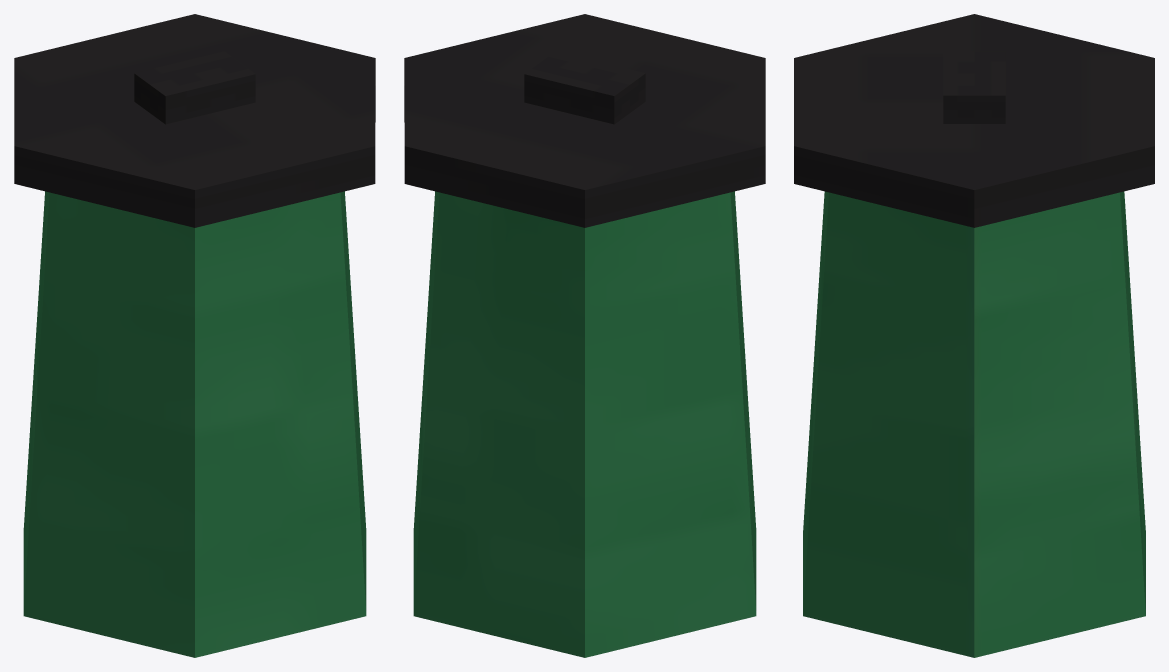
File: bin-cream-far.glb
3 renders of one model, left to right at view 1: azimuth 30°, elevation 25°; view 2: azimuth 150°, elevation 25°; view 3: azimuth 270°, elevation 25°, orthographic.
Parts seen in each view (by area): view 1: bin-cream-far; view 2: bin-cream-far; view 3: bin-cream-far.
Boxes of the visible parts, bbox=[...] form: bin-cream-far: bbox=[14, 14, 375, 657]; bin-cream-far: bbox=[404, 14, 765, 657]; bin-cream-far: bbox=[794, 14, 1154, 657].
Size of the model in its own units: 0.8 by 1.06 by 0.6928.
1 material, 1 textured.
